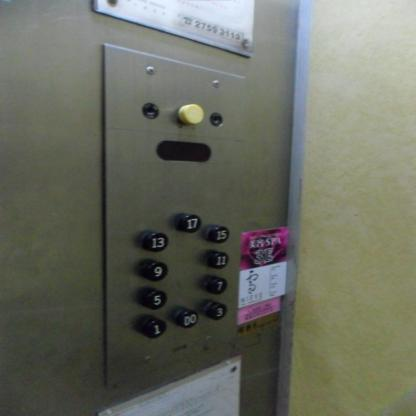1: (138, 314, 170, 339)
11: (204, 250, 231, 270)
13: (135, 226, 170, 254)
15: (203, 223, 230, 244)
17: (172, 212, 203, 234)
3: (202, 300, 229, 320)
5: (136, 286, 167, 311)
7: (201, 274, 227, 294)
9: (136, 258, 168, 282)
DO: (173, 308, 200, 329)
blur: (174, 103, 205, 127)
